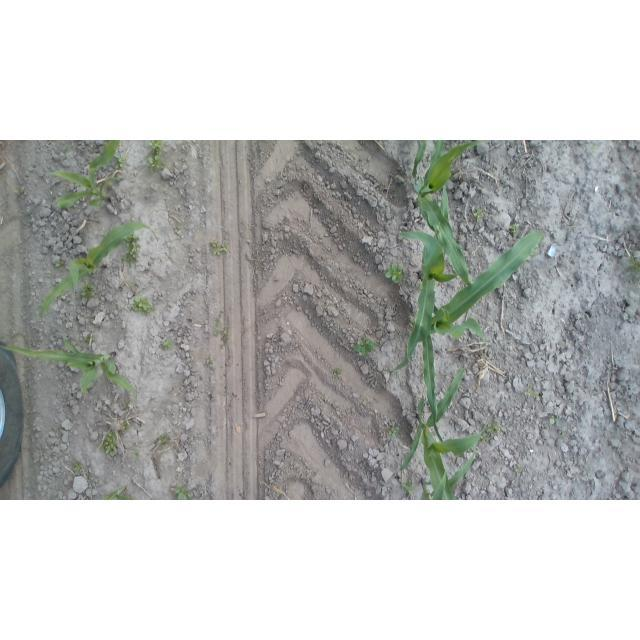Maize: (422, 227, 542, 443), (39, 221, 159, 324), (392, 187, 450, 371), (414, 141, 482, 287), (400, 368, 490, 473), (0, 339, 136, 399), (49, 141, 124, 210), (419, 444, 477, 500), (413, 140, 428, 180), (101, 487, 131, 500)
Weeds: (351, 331, 375, 357), (100, 430, 119, 457), (383, 263, 405, 286), (132, 295, 157, 315), (124, 235, 140, 264), (625, 249, 640, 276), (210, 236, 229, 257), (147, 154, 166, 173), (81, 281, 96, 300), (523, 383, 539, 400), (399, 478, 415, 494), (174, 485, 190, 500), (487, 422, 504, 435), (149, 141, 163, 156), (330, 364, 342, 378), (158, 433, 171, 445), (84, 333, 96, 346), (162, 338, 174, 351), (474, 207, 485, 221), (220, 325, 228, 343), (115, 157, 127, 169), (389, 426, 400, 439), (72, 461, 83, 473), (53, 259, 63, 269), (550, 415, 560, 425), (509, 223, 519, 233), (123, 400, 132, 411), (14, 187, 22, 197), (481, 435, 491, 443), (121, 423, 129, 432), (514, 464, 523, 472), (206, 357, 213, 367), (87, 472, 94, 480), (132, 452, 139, 459), (62, 145, 69, 152), (173, 224, 179, 232), (214, 327, 219, 336), (216, 317, 221, 324), (563, 430, 566, 436)
